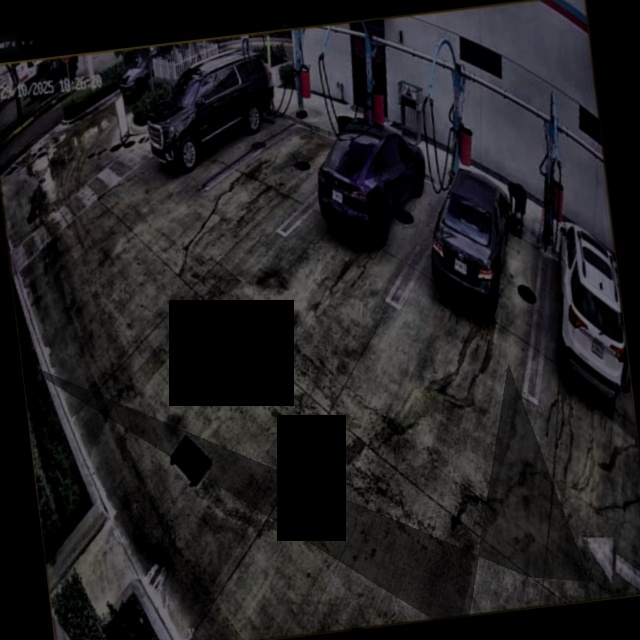Car: (142, 48, 279, 175), (308, 111, 433, 246), (422, 161, 522, 311)
